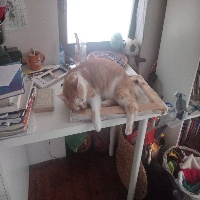asleep: (56, 57, 138, 135)
